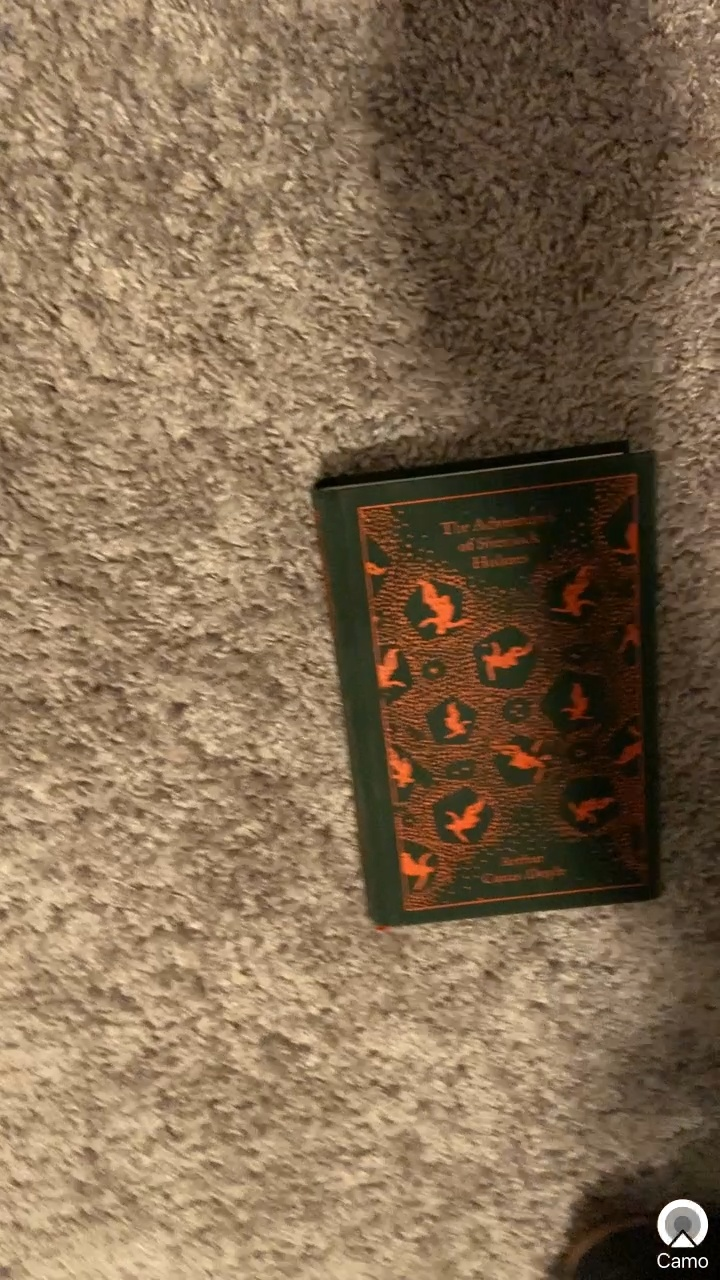Book: (269, 426, 701, 930)
